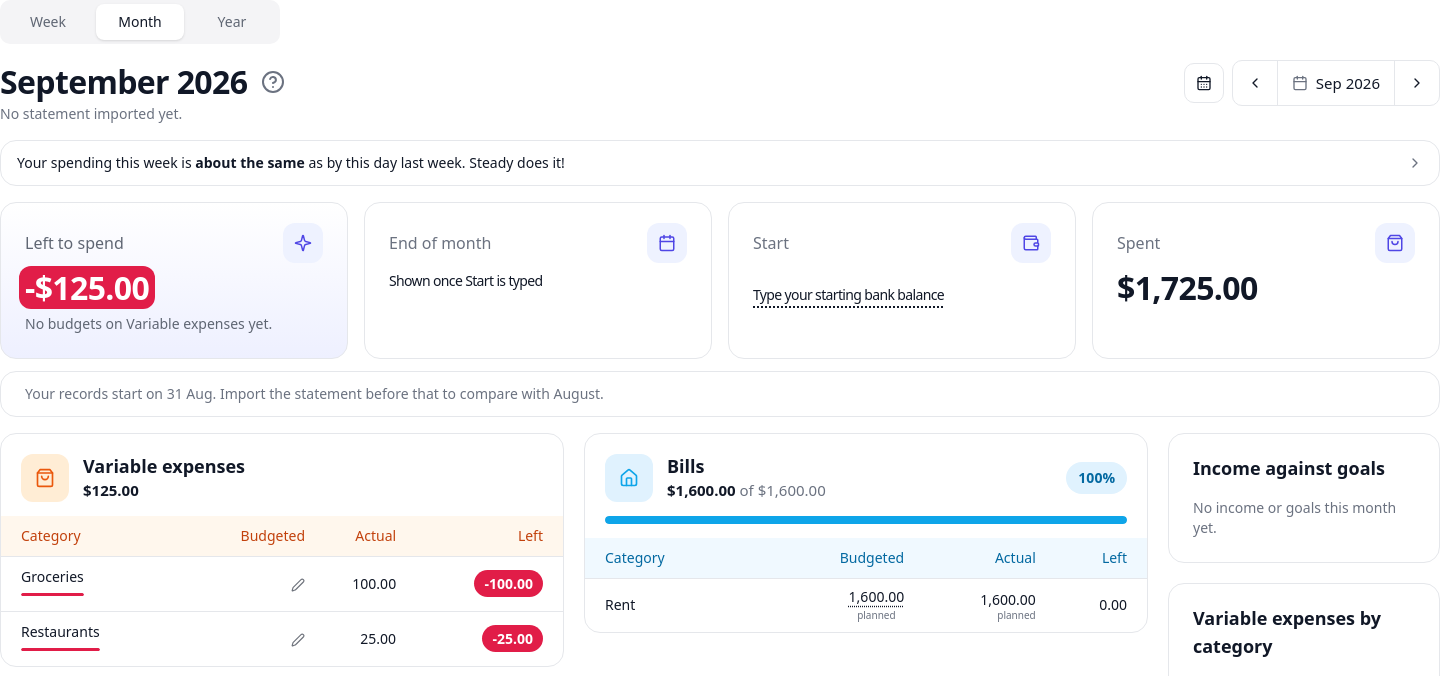
it: Month row charges › says a planned row's amount is its monthly amount, which a charge filed there would replace
Expected: the column heading "Rent" is shown, [585,578,758,632]
Click the button "Rent" at (620, 605), box [605,595,635,615]
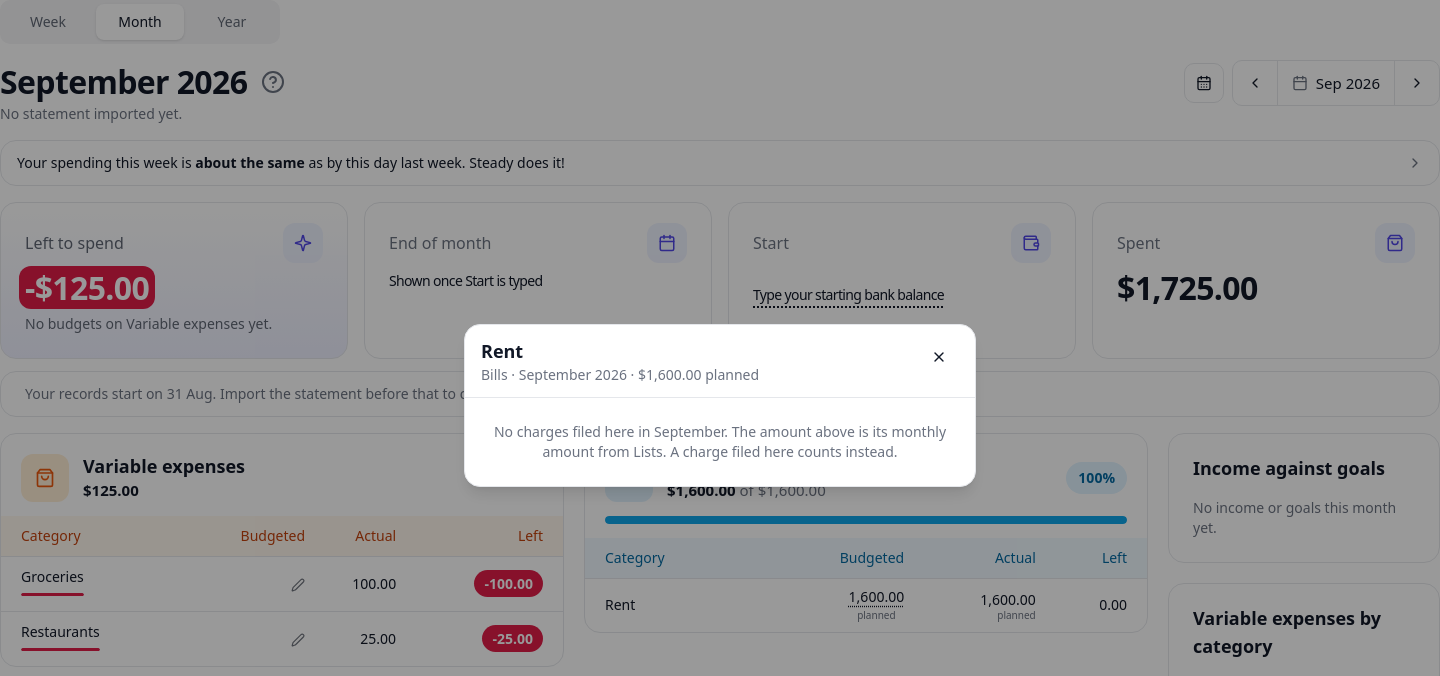
Result: the text "Bills · September 2026 · $1,600.00 planned" is shown at [481,364,759,384]
Result: the text "No charges filed here" shows "No charges filed here in September. The amount above is its monthly amount from Lists. A charge filed here counts instead." at [494,422,946,460]
